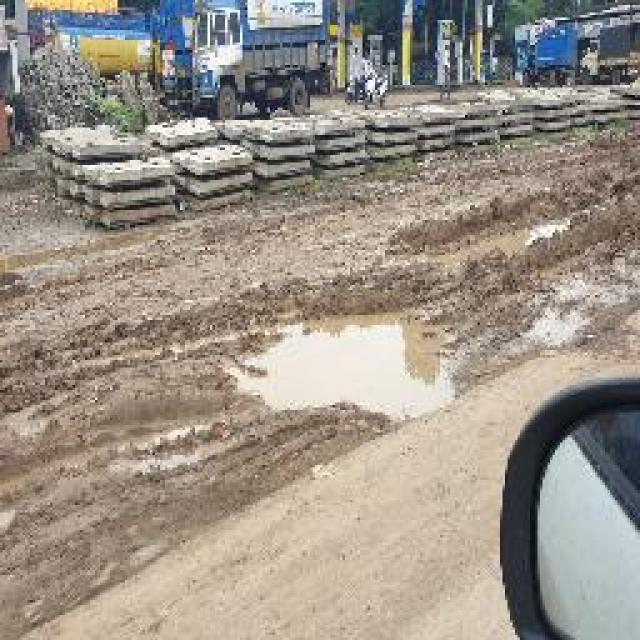waterlogging: (202, 328, 488, 428)
